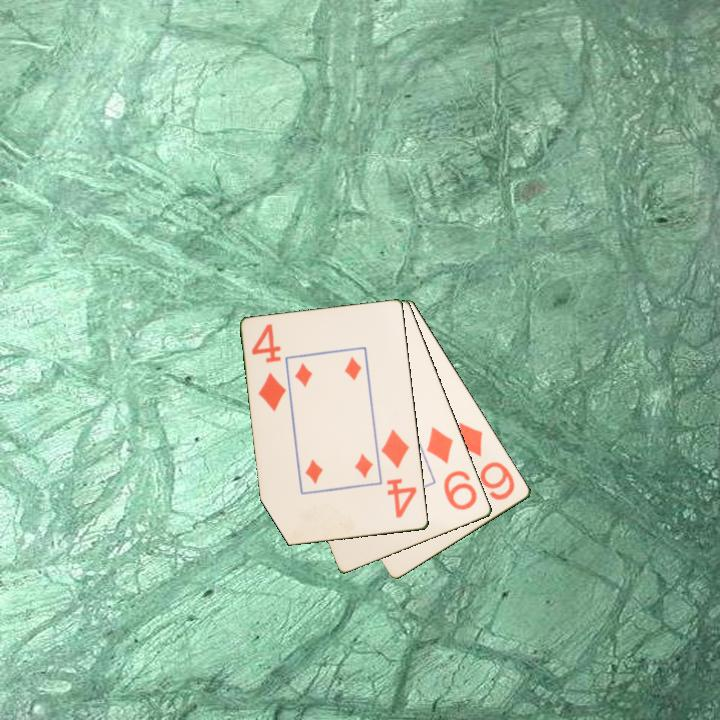4d: (378, 426, 420, 521), (248, 321, 289, 415)
6d: (454, 418, 518, 503)
9d: (423, 423, 480, 513)
